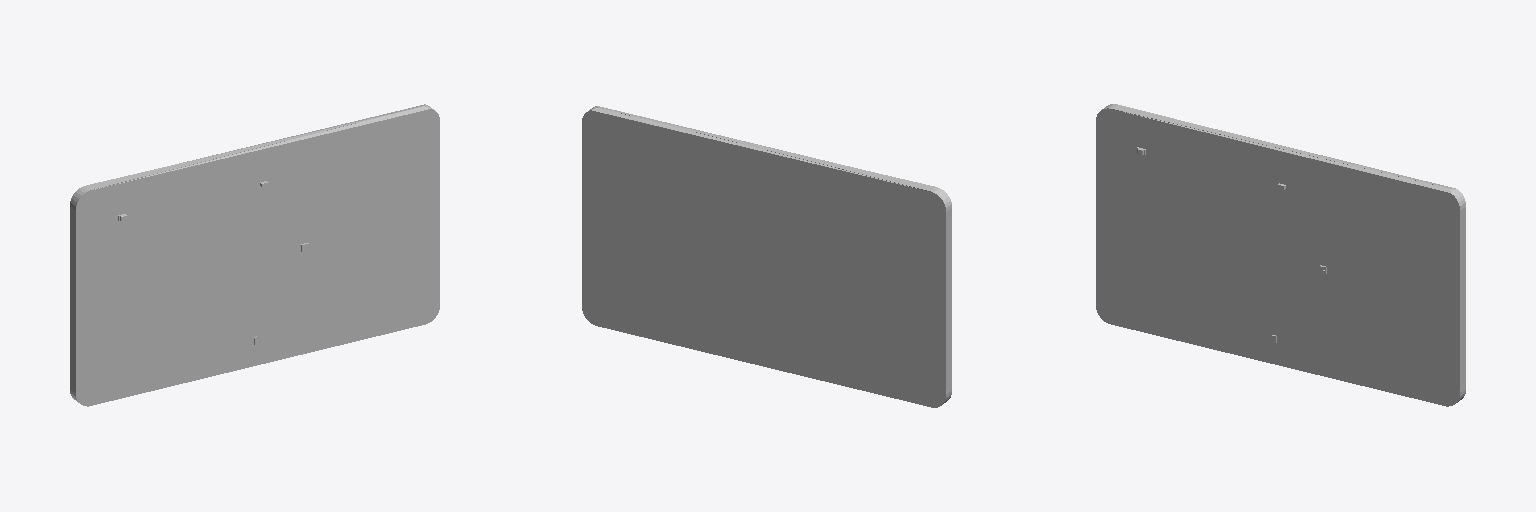
The model's file is OBJ_PCB_New Project.obj.
3 views of the same model, side by side, from view 1: azimuth 30°, elevation 25°; view 2: azimuth 150°, elevation 25°; view 3: azimuth 330°, elevation 25° (orthographic).
Size of the model in its own units: 345 by 196 by 13.18.